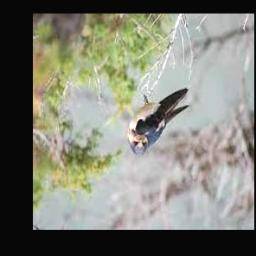Swallow: (128, 90, 190, 156)
